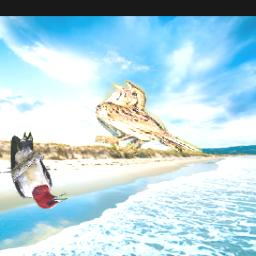Sparrow: (95, 80, 202, 154)
Woodpecker: (9, 131, 70, 210)
